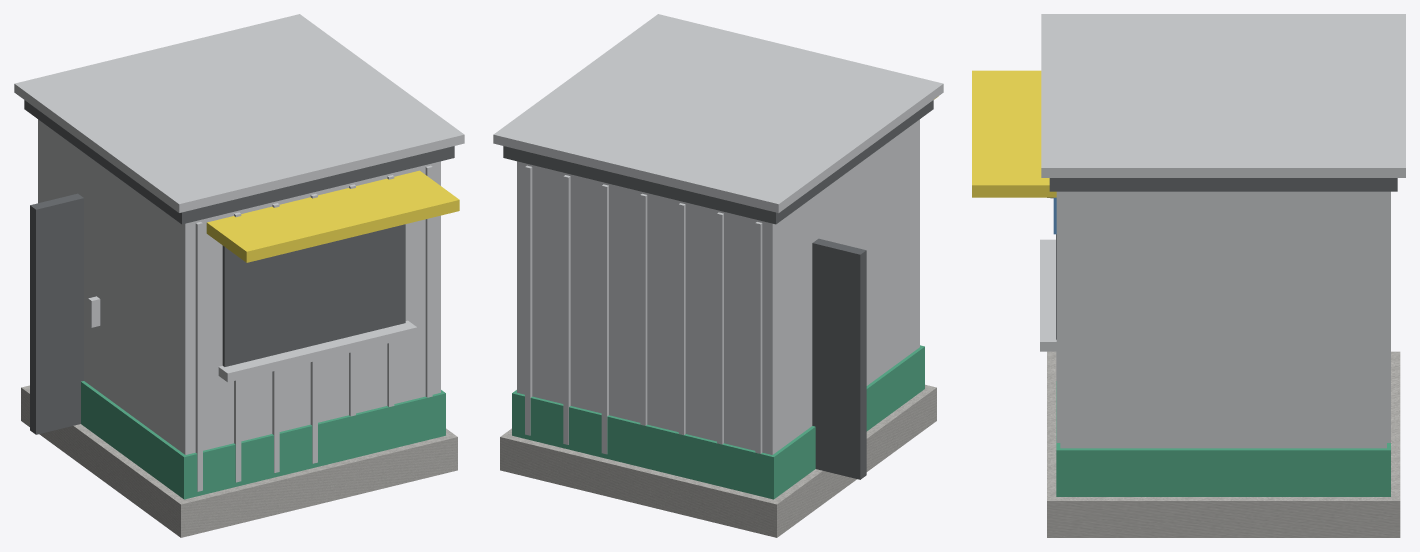
Rendered from recycling-and-waste-transfer-yard-recycling-and-waste--88055bd8__34911.glb.
3 renders of one model, left to right at view 1: azimuth 30°, elevation 25°; view 2: azimuth 150°, elevation 25°; view 3: azimuth 270°, elevation 25°, orthographic. The views are drawn at different scales.
Parts seen in each view (by area): view 1: recycling-and-waste-transfer-yard-weighbridge-control-cabin_ (×5); view 2: recycling-and-waste-transfer-yard-weighbridge-control-cabin_ (×4); view 3: recycling-and-waste-transfer-yard-weighbridge-control-cabin_ (×5).
Boxes of the visible parts, box(x1,y1,x2,y2) form: recycling-and-waste-transfer-yard-weighbridge-control-cabin_ (×5): box(14, 14, 464, 537); recycling-and-waste-transfer-yard-weighbridge-control-cabin_ (×4): box(493, 14, 943, 537); recycling-and-waste-transfer-yard-weighbridge-control-cabin_ (×5): box(972, 14, 1405, 537).
Size of the model in its own units: 2.99 by 3.02 by 3.19.
6 materials, 1 textured.
